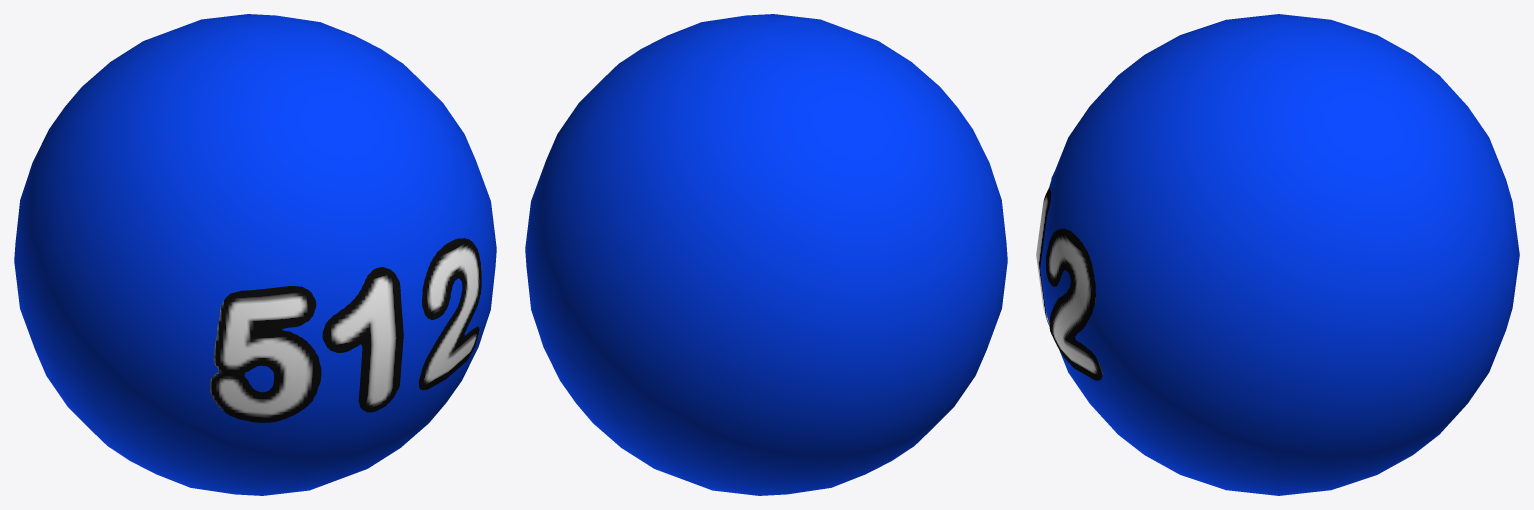
File: Ball 512.fbx
3 views of the same model, side by side, from view 1: azimuth 30°, elevation 25°; view 2: azimuth 150°, elevation 25°; view 3: azimuth 270°, elevation 25° (orthographic).
Visible parts, largest first — view 1: Ball 512; view 2: Ball 512; view 3: Ball 512.
Part boxes in pixels (x1,y1,x2,y2): Ball 512: (14, 14, 496, 495); Ball 512: (525, 14, 1007, 495); Ball 512: (1036, 14, 1519, 495).
Bounding box in the file's own units: 164 × 164 × 164.
